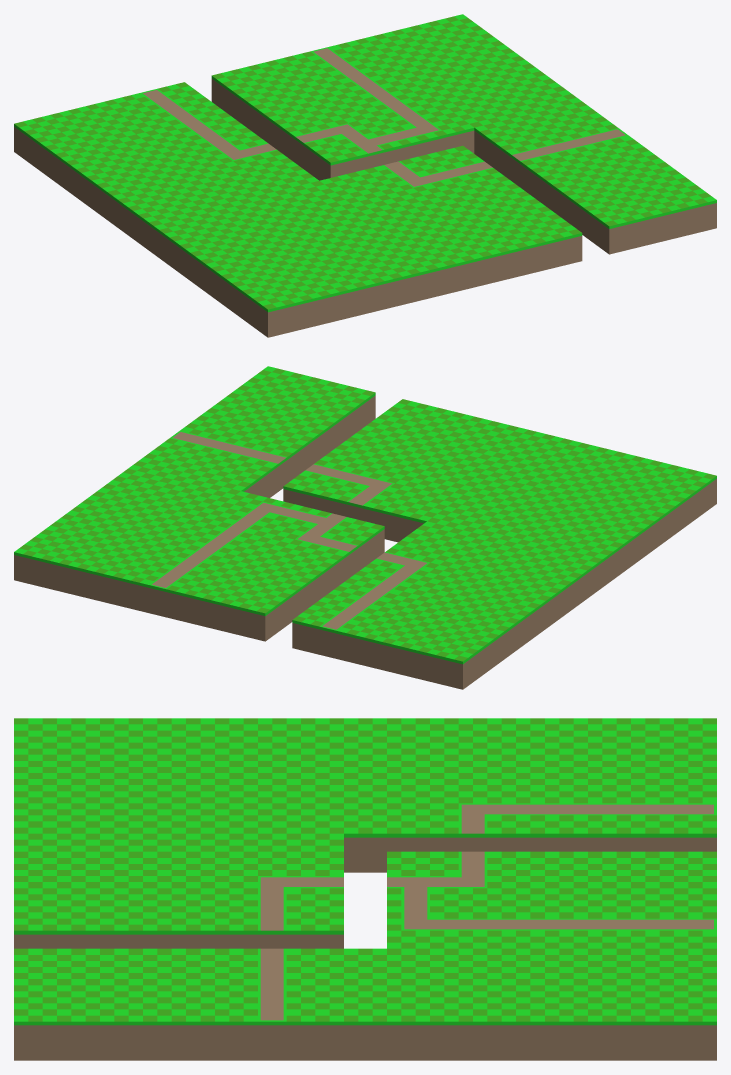
Rendered from Map 04 - 2.fbx.
3 renders of one model, top to bottom at view 1: azimuth 30°, elevation 25°; view 2: azimuth 150°, elevation 25°; view 3: azimuth 270°, elevation 25°, orthographic. The views are drawn at different scales.
Parts seen in each view (by area): view 1: Plane.017; view 2: Plane.017; view 3: Plane.017.
Part boxes in pixels (x1=…): Plane.017: x1=14, y1=14, x2=716, y2=337; Plane.017: x1=14, y1=366, x2=716, y2=689; Plane.017: x1=14, y1=718, x2=716, y2=1060.
Size of the model in its own units: 500 by 30 by 490.
